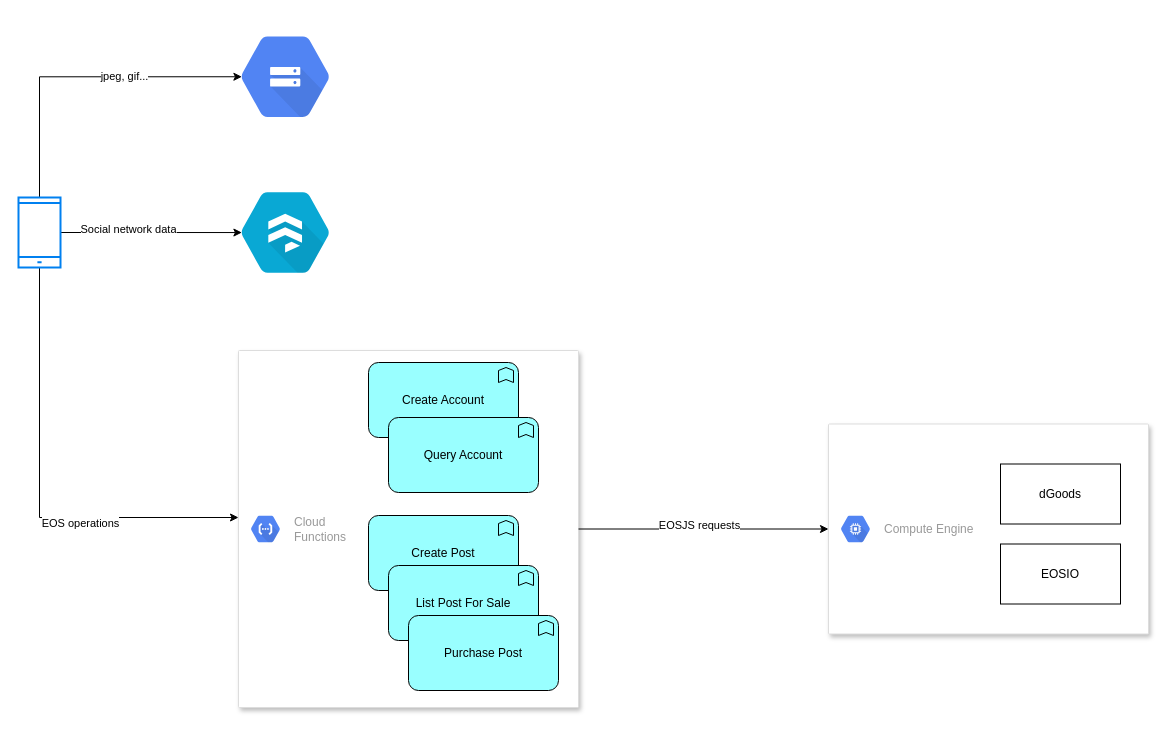
This 1172x732 diagram has some shape labels left out. Here are the shapes that lost their labels. From the top down, the centre of each, then its label:
pixel 285 76: Image Storage
pixel 285 232: Firestore
